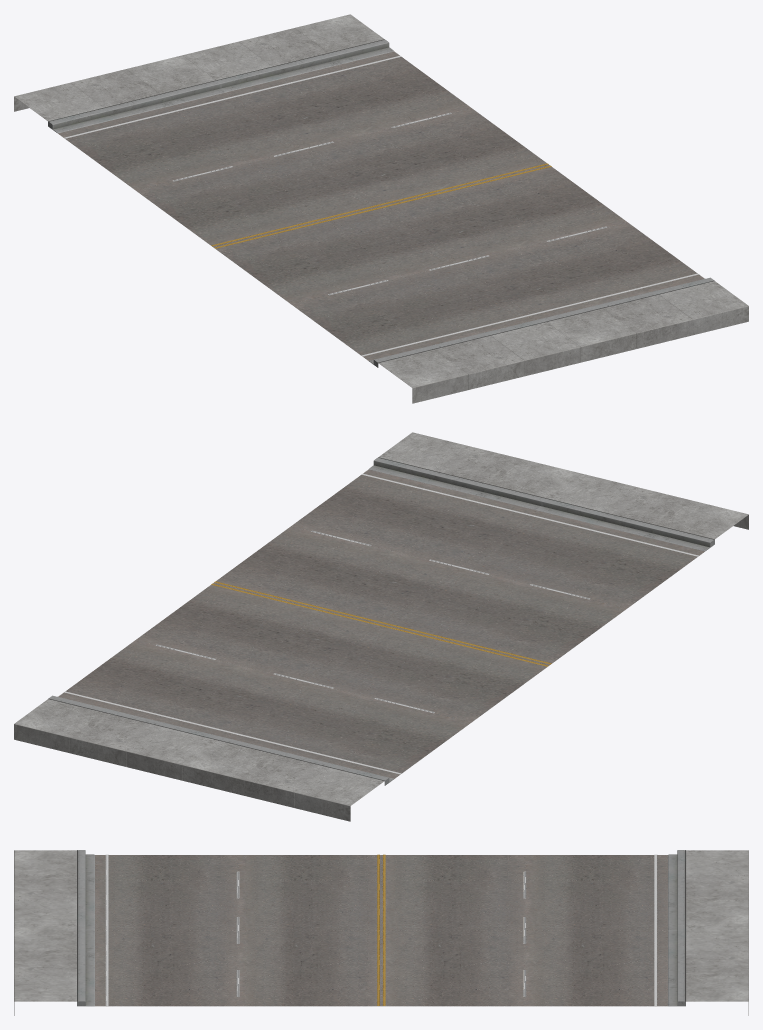
Rendered from Road_4L_VarC.fbx.
The picture shows the model from 3 angles, top to bottom: view 1: azimuth 30°, elevation 25°; view 2: azimuth 150°, elevation 25°; view 3: azimuth 270°, elevation 25°; orthographic projection. The views are drawn at different scales.
Parts seen in each view (by area): view 1: Road_4L_VarC_LOD0; view 2: Road_4L_VarC_LOD0; view 3: Road_4L_VarC_LOD0.
Part boxes in pixels (<box>): Road_4L_VarC_LOD0: <box>14,14,748,403</box>; Road_4L_VarC_LOD0: <box>14,432,748,821</box>; Road_4L_VarC_LOD0: <box>14,850,748,1015</box>.
Size of what is drawn, in the model's own units: 1000 by 44.86 by 2051.
